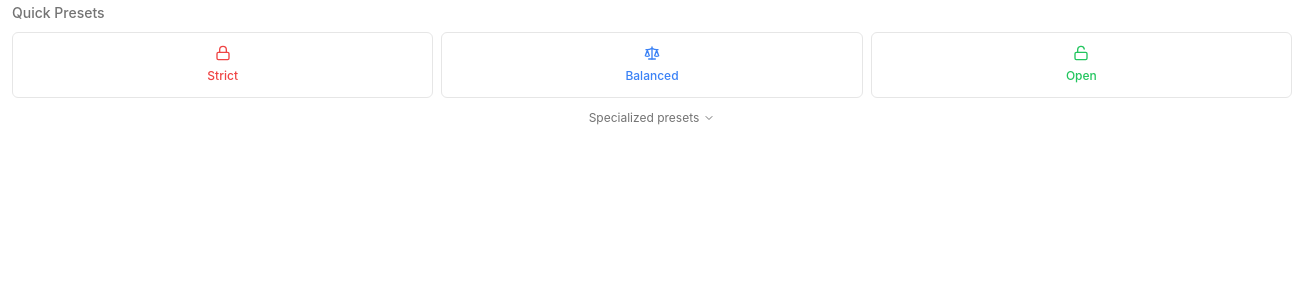
Test: ConsentPresetSelector › reveals specialized presets when toggle is clicked
Expected: the text "Health Focus" is not shown
Click the toggle
Click the button "Specialized presets": [652, 118] box [12,106,1292,130]
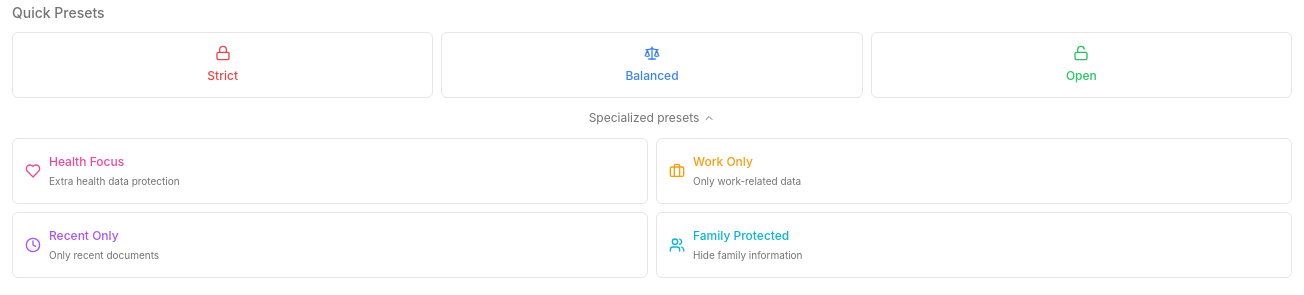
Expected: the text "Health Focus" is shown, [49,154,124,169]
Expected: the text "Work Only" is shown, [693,154,753,169]
Expected: the text "Recent Only" is shown, [49,228,119,243]
